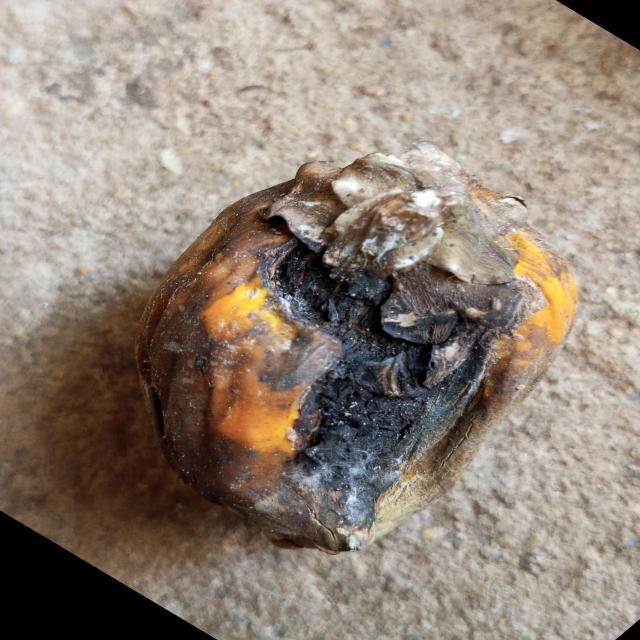damaged: (136, 141, 577, 552)
